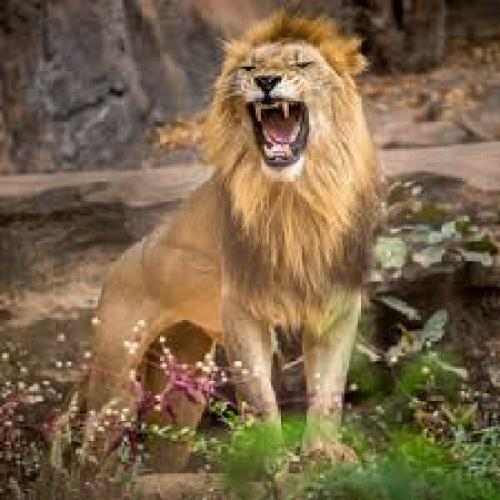lion-endangered: (86, 12, 381, 465)
